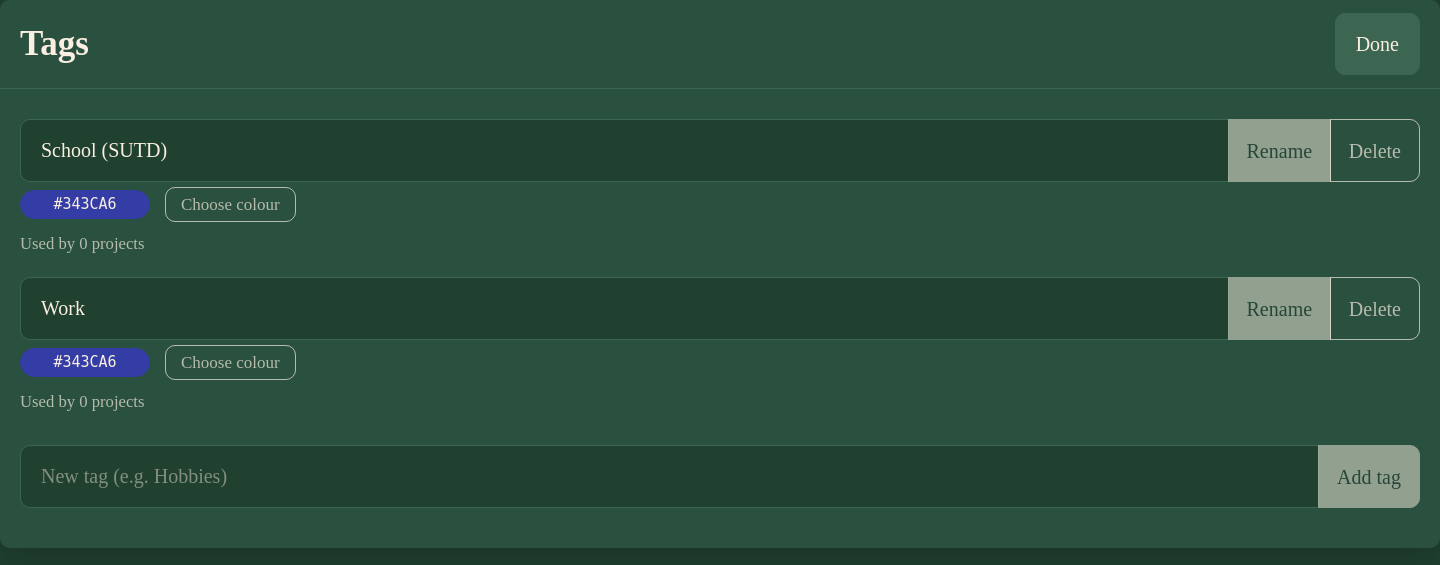
TagManager › follows the picker, and saves the colour it closes on, keeping an unsaved name
Replace the text in the field named "Name of Work" with "Intern". click: (624, 309)
box: [20,277,1229,340]
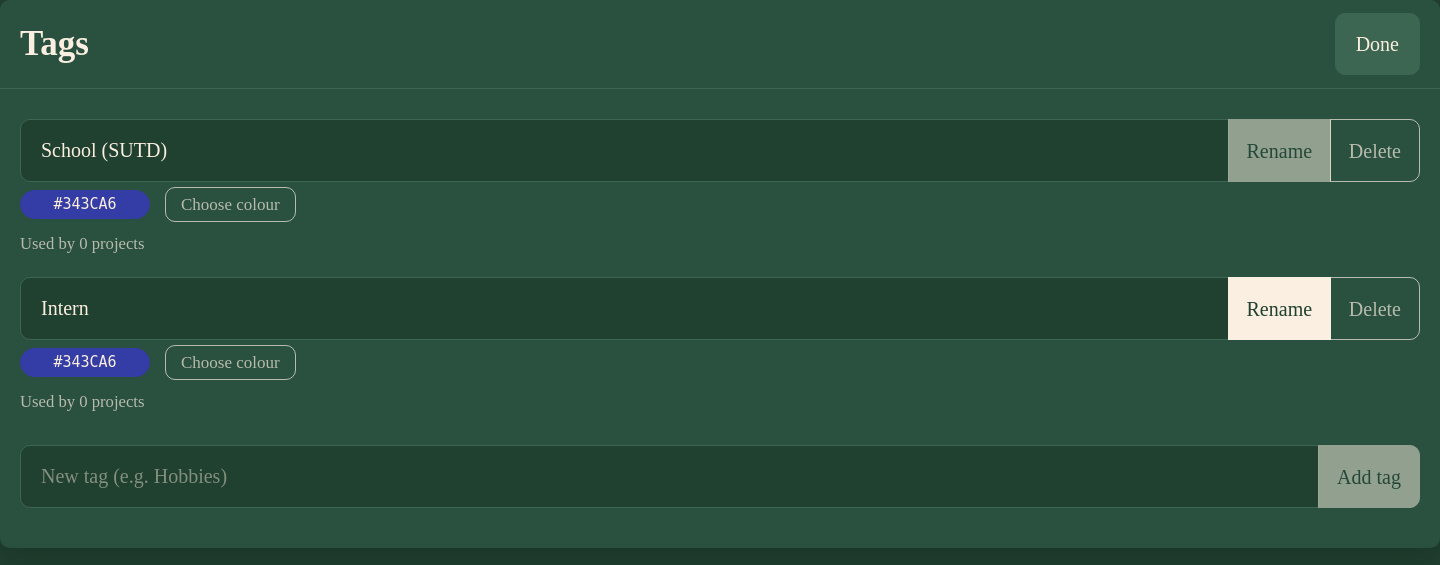
Type "#17646a" into the 2nd colour field. click: (720, 353)
box: [20,321,1420,384]
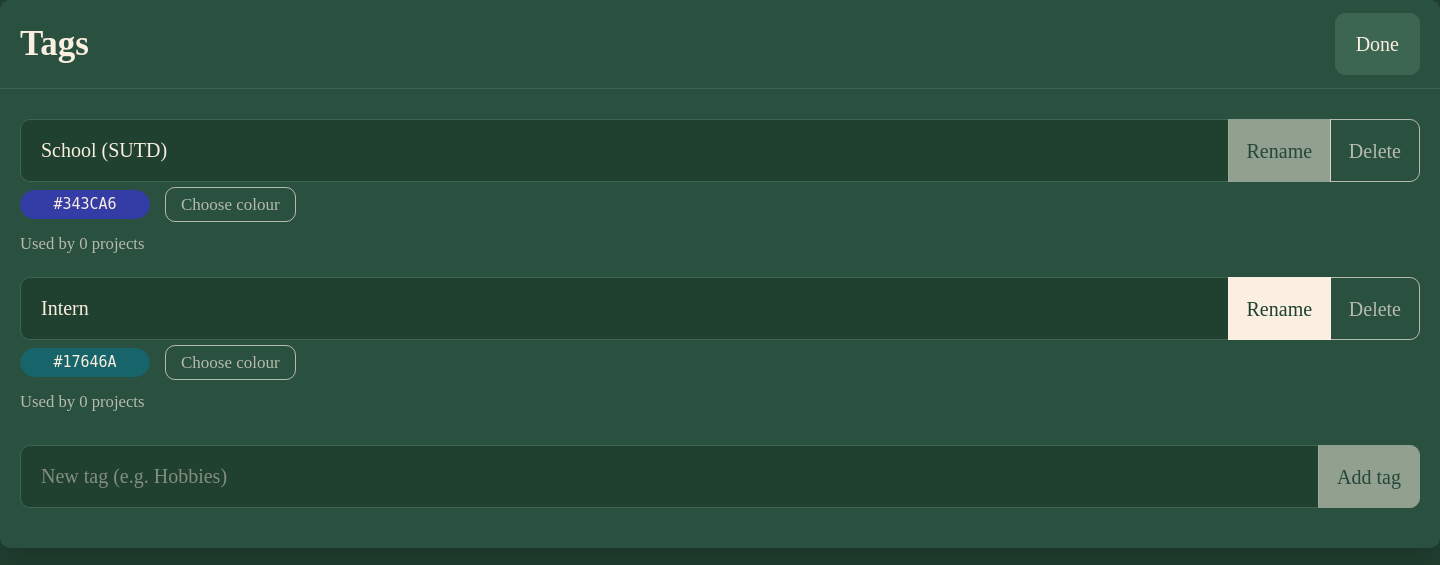
Expected: the text with class "color-swatch" reads "#17646a", [53,353,117,371]
